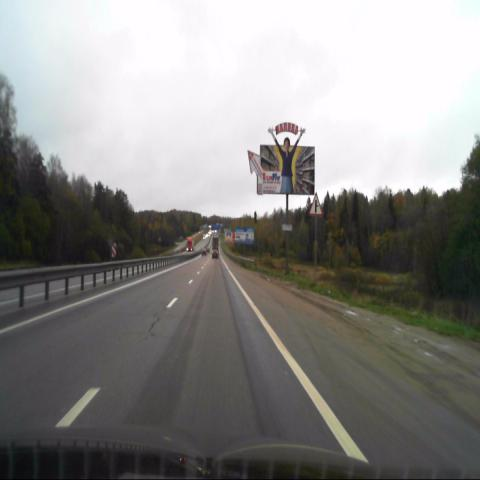2_3_2: (309, 192, 323, 218)
